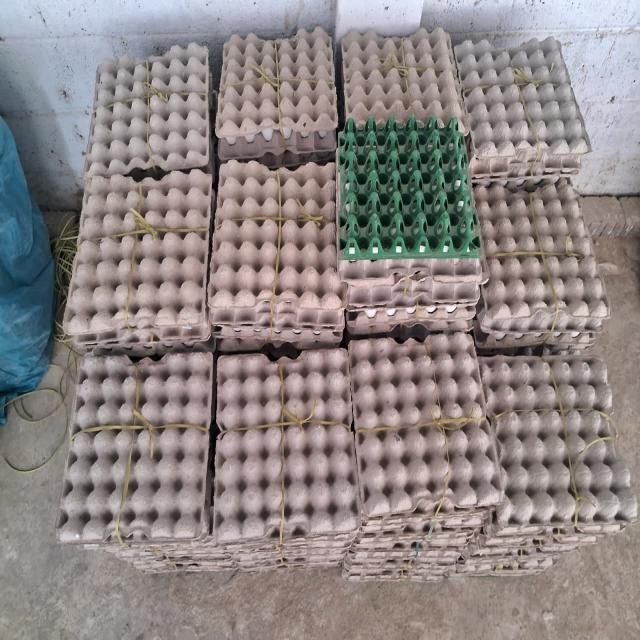egg_tray: (454, 358, 636, 574), (343, 333, 501, 580), (461, 357, 636, 574), (214, 349, 360, 569), (56, 353, 213, 545), (480, 356, 636, 539), (349, 333, 502, 519), (63, 170, 212, 344), (208, 161, 346, 339), (474, 179, 610, 332), (337, 117, 481, 261), (84, 43, 212, 177), (454, 37, 590, 161), (84, 465, 238, 572), (216, 27, 337, 159), (96, 461, 237, 572), (342, 27, 468, 133), (338, 259, 486, 339), (344, 505, 492, 579), (346, 271, 481, 334), (457, 519, 598, 574), (343, 522, 478, 579), (464, 512, 600, 563), (84, 529, 237, 572), (473, 301, 602, 349), (464, 513, 598, 558), (351, 515, 488, 559), (344, 523, 451, 579), (346, 277, 480, 321), (480, 512, 626, 552), (219, 529, 354, 570), (73, 321, 216, 358), (360, 505, 494, 544), (213, 300, 344, 339), (352, 513, 490, 550), (72, 323, 215, 357), (478, 298, 602, 337), (218, 127, 336, 167), (102, 537, 236, 572), (346, 277, 480, 311), (229, 534, 352, 571), (343, 543, 460, 581), (346, 302, 476, 336), (338, 256, 486, 285), (346, 304, 476, 336), (473, 320, 595, 352), (470, 152, 581, 186), (346, 305, 476, 334), (346, 312, 470, 341), (84, 332, 217, 359), (346, 312, 472, 339), (214, 327, 343, 352), (119, 549, 237, 573), (456, 548, 556, 575), (472, 163, 580, 188), (348, 542, 459, 565), (254, 141, 334, 168), (343, 560, 443, 581), (158, 535, 230, 561), (583, 206, 640, 237), (106, 545, 152, 560), (436, 259, 460, 265), (463, 259, 480, 266), (207, 481, 212, 494), (74, 344, 82, 351), (363, 521, 370, 527), (433, 528, 438, 535), (84, 545, 95, 547), (352, 261, 359, 264), (340, 261, 345, 265), (536, 554, 541, 558), (441, 485, 444, 491), (386, 533, 390, 537), (376, 525, 380, 529), (225, 334, 233, 336), (368, 261, 374, 263), (224, 546, 228, 549), (338, 196, 339, 206), (240, 158, 250, 159), (294, 497, 296, 501), (436, 560, 438, 564), (348, 263, 352, 265), (300, 335, 302, 339), (210, 519, 212, 523), (248, 333, 250, 336), (210, 509, 212, 512), (210, 509, 212, 511), (366, 489, 367, 492), (308, 507, 310, 508), (433, 308, 434, 310), (396, 533, 398, 534), (429, 307, 431, 308), (529, 555, 530, 557), (576, 336, 577, 337), (452, 269, 453, 270), (430, 527, 430, 529), (370, 521, 370, 521), (459, 270, 459, 271), (583, 202, 583, 204), (219, 147, 219, 152), (298, 145, 300, 145), (312, 338, 312, 339), (296, 561, 296, 562)
